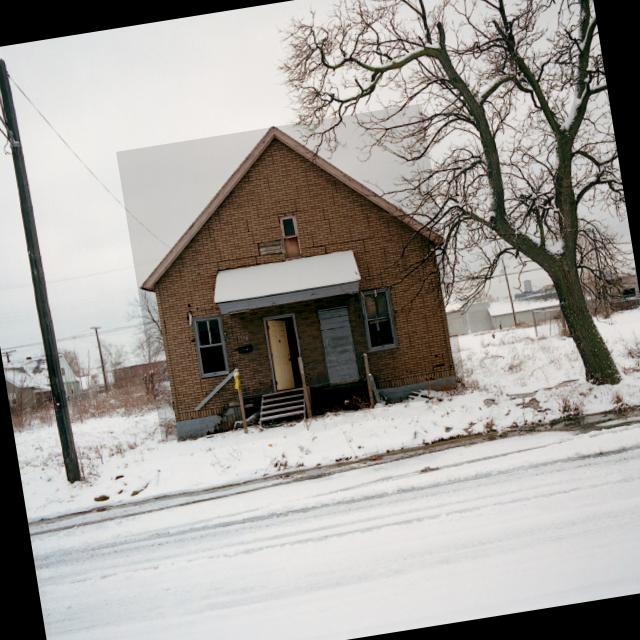House: (116, 104, 468, 443), (443, 263, 640, 336), (2, 351, 84, 416), (110, 354, 170, 390)
